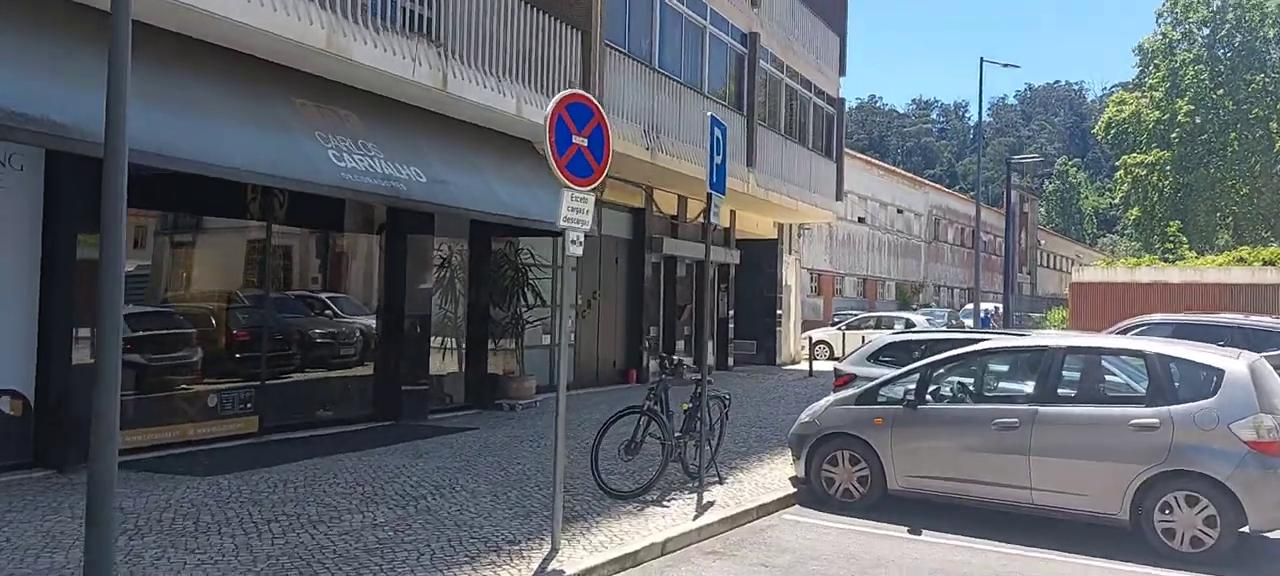Estacionamento autorizado: (706, 112, 732, 200)
passagem e estacionamento proibido: (542, 87, 619, 194)
